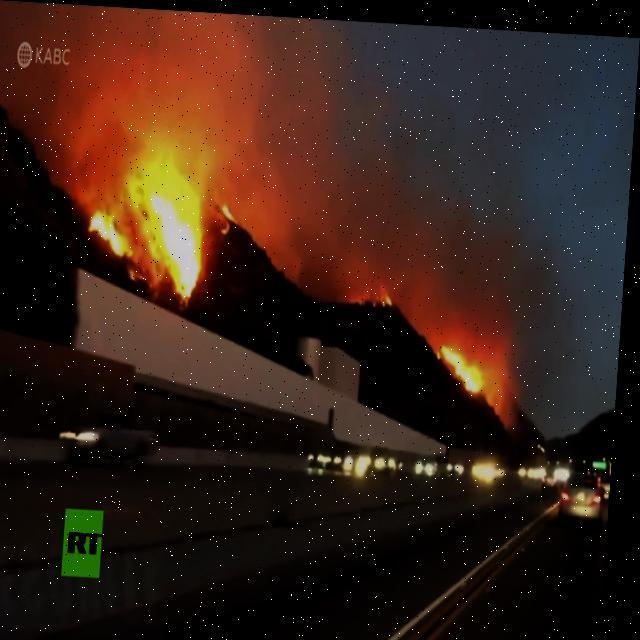Fire: (90, 154, 214, 299), (440, 341, 490, 388), (224, 196, 238, 231), (384, 284, 396, 304)
